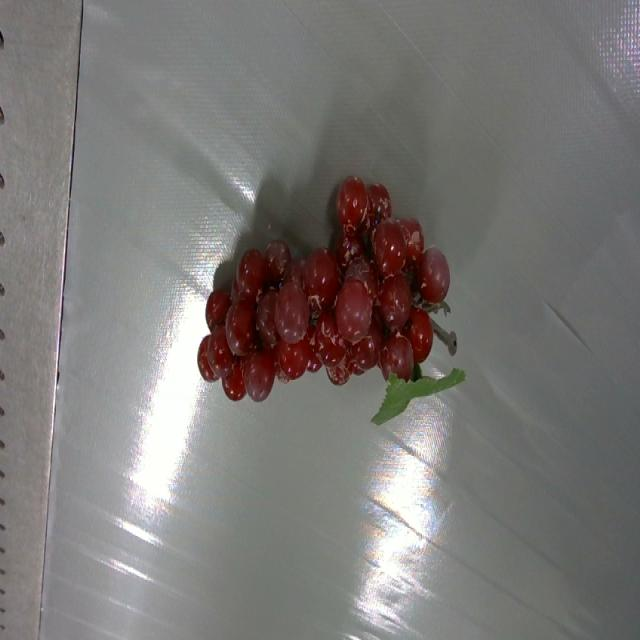grape: (198, 177, 465, 423)
